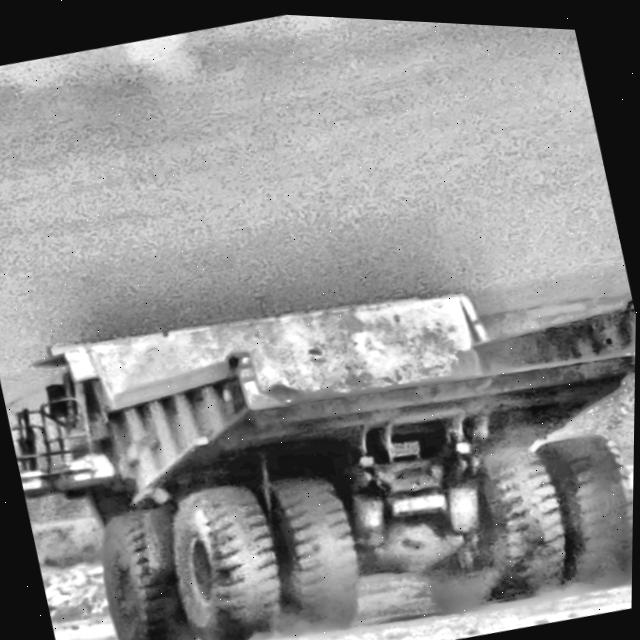dump_truck: (13, 291, 637, 640)
